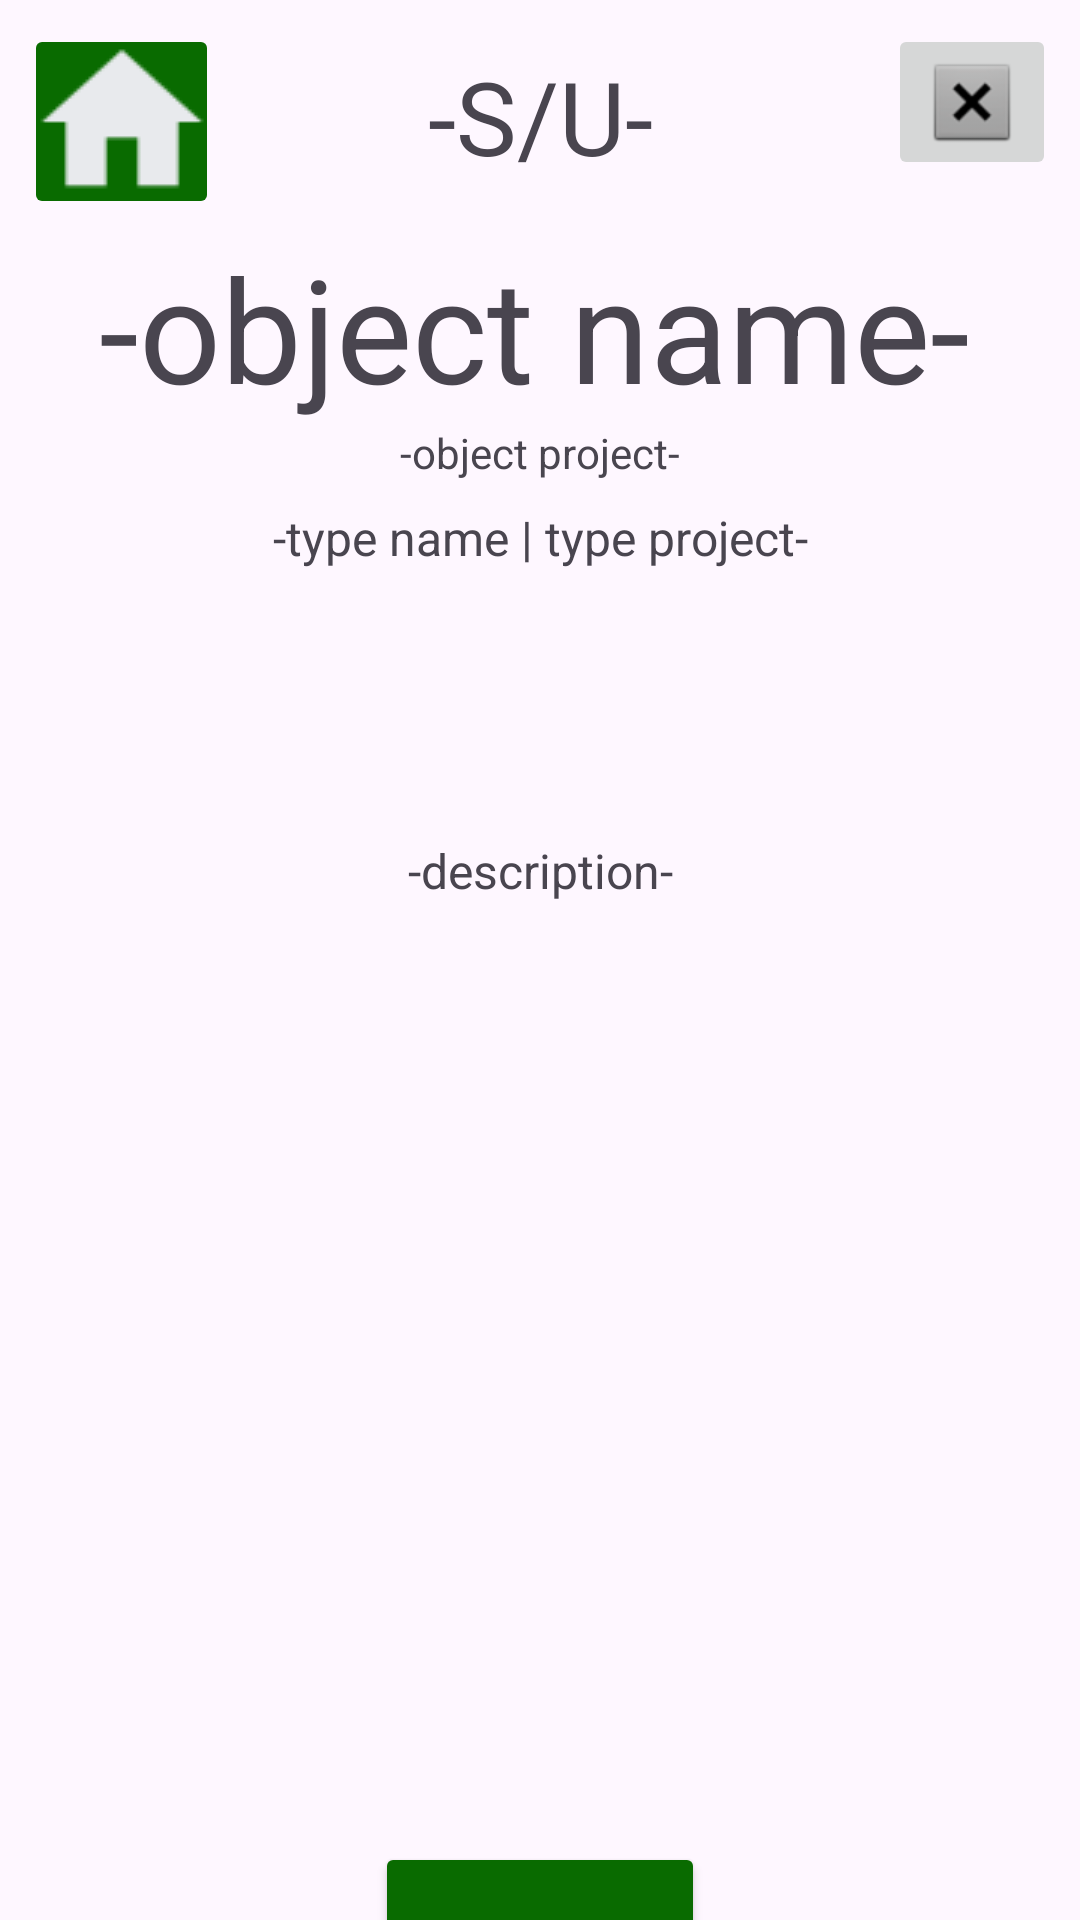

Screen size 1080x1920. Icon name, then its center in pixels as (x=x, y=y):
homebtn: (x=121, y=121)
